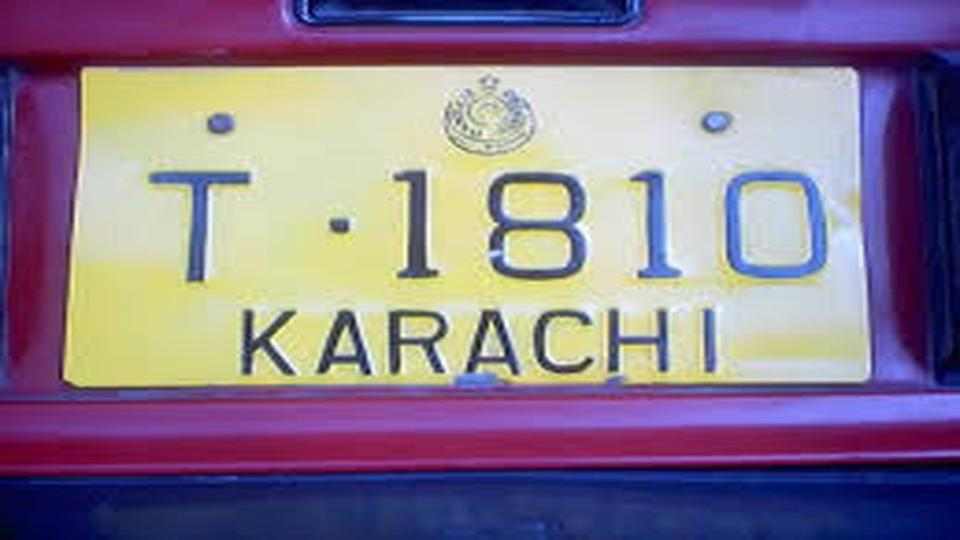NumberPlate: (87, 66, 865, 378)
